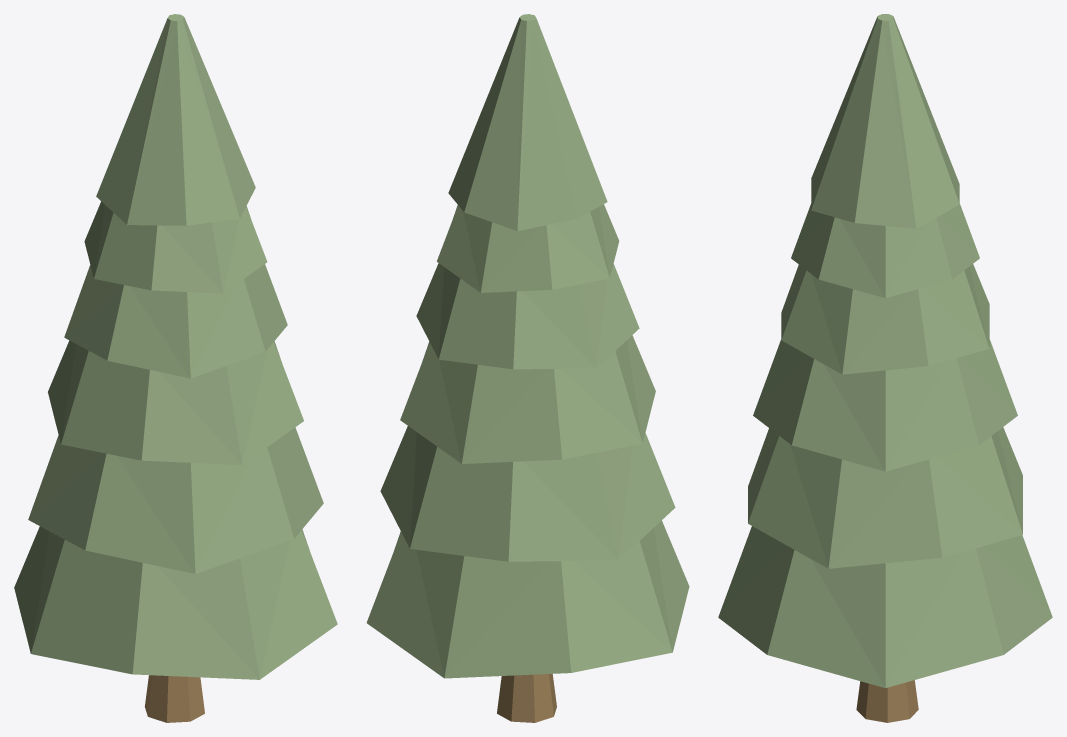
The model's file is tree.glb.
3 views of the same model, side by side, from view 1: azimuth 30°, elevation 25°; view 2: azimuth 150°, elevation 25°; view 3: azimuth 270°, elevation 25° (orthographic).
Parts seen in each view (by area): view 1: imagetostl_mesh39, imagetostl_mesh62, imagetostl_mesh194, imagetostl_mesh73, imagetostl_mesh74, imagetostl_mesh189, imagetostl_mesh40, imagetostl_mesh220, imagetostl_mesh38, imagetostl_mesh63, imagetostl_mesh72, imagetostl_mesh243 (+36 smaller); view 2: imagetostl_mesh56, imagetostl_mesh65, imagetostl_mesh182, imagetostl_mesh99, imagetostl_mesh177, imagetostl_mesh90, imagetostl_mesh55, imagetostl_mesh57, imagetostl_mesh237, imagetostl_mesh98, imagetostl_mesh246, imagetostl_mesh64 (+36 smaller); view 3: imagetostl_mesh48, imagetostl_mesh47, imagetostl_mesh175, imagetostl_mesh82, imagetostl_mesh172, imagetostl_mesh49, imagetostl_mesh81, imagetostl_mesh229, imagetostl_mesh228, imagetostl_mesh184, imagetostl_mesh89, imagetostl_mesh46 (+37 smaller).
Boxes of the visible parts, x1,y1,x2,y2 form: imagetostl_mesh39: (132,563,259,679); imagetostl_mesh62: (31,561,142,674); imagetostl_mesh194: (127,22,186,225); imagetostl_mesh73: (85,454,194,573); imagetostl_mesh74: (195,447,294,573); imagetostl_mesh189: (177,21,239,225); imagetostl_mesh40: (260,530,337,679); imagetostl_mesh220: (141,370,241,464); imagetostl_mesh38: (157,558,259,679); imagetostl_mesh63: (31,540,132,653); imagetostl_mesh72: (117,456,195,573); imagetostl_mesh243: (61,368,149,460); imagetostl_mesh56: (444,561,571,678); imagetostl_mesh65: (561,561,672,672); imagetostl_mesh182: (517,21,576,230); imagetostl_mesh99: (508,461,617,561); imagetostl_mesh177: (464,20,521,231); imagetostl_mesh90: (410,462,512,561); imagetostl_mesh55: (366,532,444,677); imagetostl_mesh57: (444,556,549,677); imagetostl_mesh237: (462,369,562,463); imagetostl_mesh98: (523,453,618,559); imagetostl_mesh246: (554,369,642,459); imagetostl_mesh64: (572,541,672,651); imagetostl_mesh48: (886,548,1003,687); imagetostl_mesh47: (767,550,884,687); imagetostl_mesh175: (854,21,916,228); imagetostl_mesh82: (828,459,942,568); imagetostl_mesh172: (893,19,959,228); imagetostl_mesh49: (885,551,963,687); imagetostl_mesh81: (748,436,828,568); imagetostl_mesh229: (885,358,978,471); imagetostl_mesh228: (792,359,885,471); imagetostl_mesh184: (811,22,881,222); imagetostl_mesh89: (929,457,1022,557); imagetostl_mesh46: (811,559,885,687).
Bounding box in the file's own units: 95.2 × 217 × 95.2.
